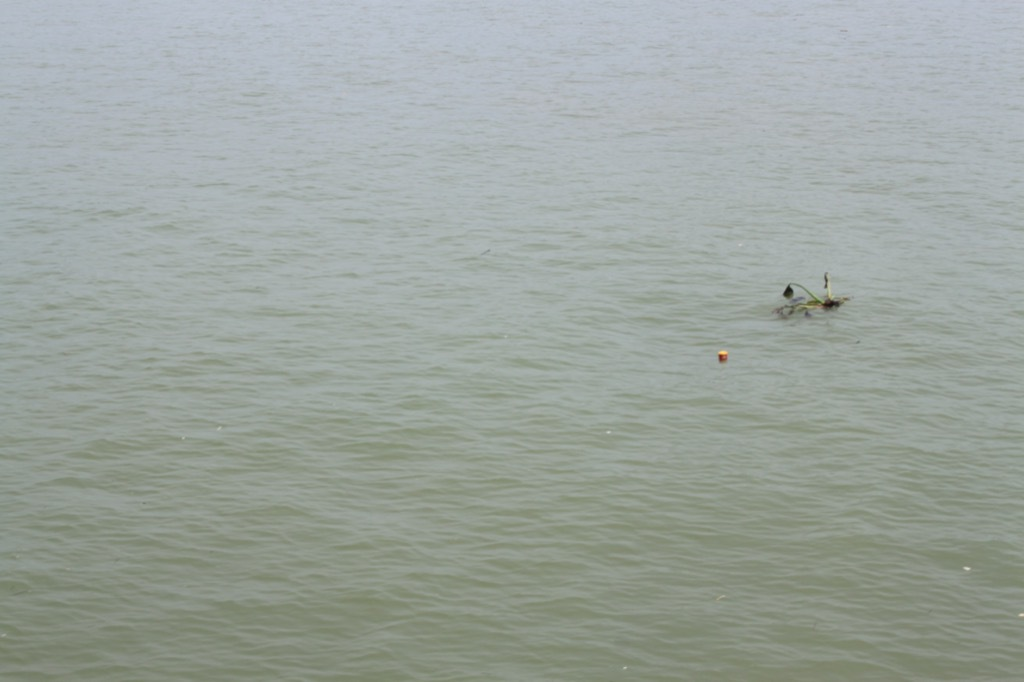organic: (753, 264, 868, 346), (455, 239, 501, 272), (137, 496, 150, 511)
plastic: (711, 345, 735, 371), (959, 559, 980, 577), (600, 424, 616, 439), (618, 660, 632, 674), (212, 422, 225, 434), (1013, 608, 1024, 621), (177, 432, 189, 443), (500, 329, 510, 341)
